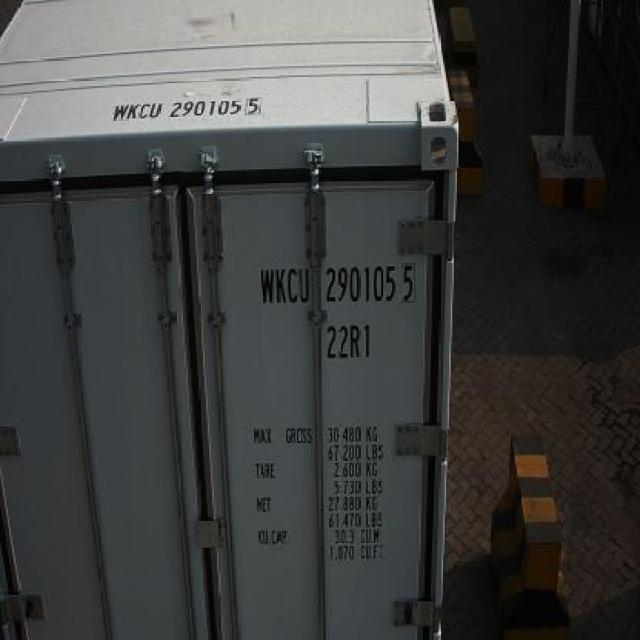ISO: (323, 324, 372, 358)
container_number: (262, 268, 418, 302)
